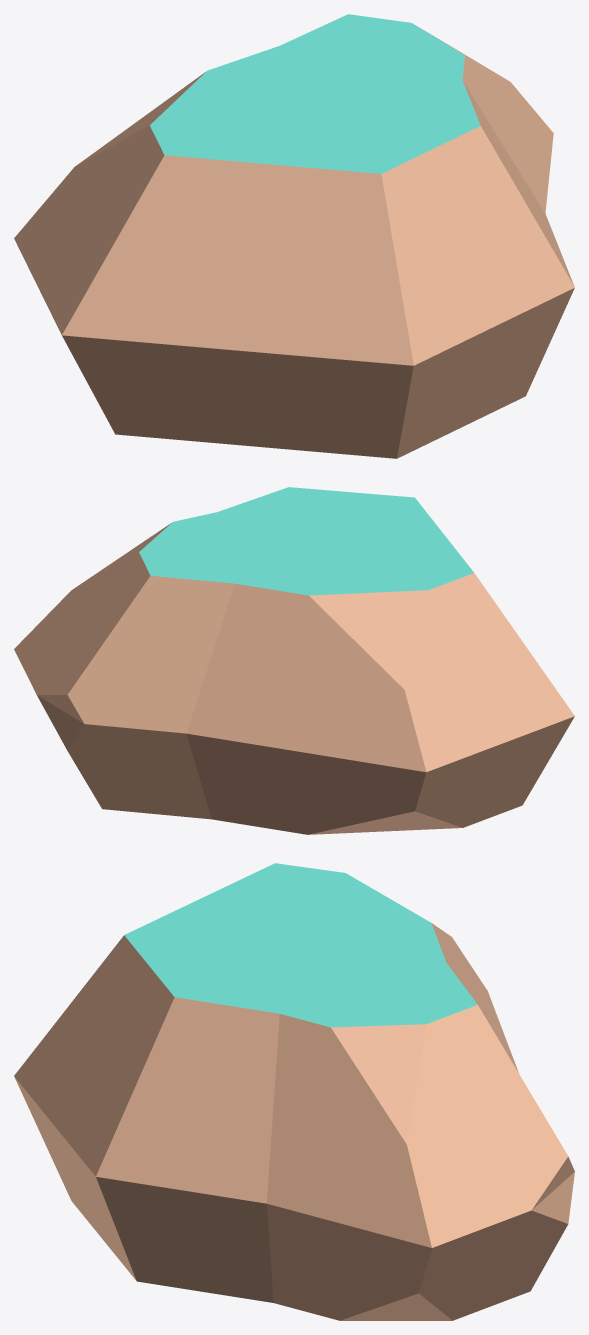
The model's file is rock_largeF.glb.
3 renders of one model, top to bottom at view 1: azimuth 30°, elevation 25°; view 2: azimuth 150°, elevation 25°; view 3: azimuth 270°, elevation 25°, orthographic. The views are drawn at different scales.
Visible parts, largest first — view 1: rock_largeF; view 2: rock_largeF; view 3: rock_largeF.
Part boxes in pixels (box(x1,y1,x2,y2)): rock_largeF: box(14, 14, 574, 458); rock_largeF: box(14, 487, 574, 834); rock_largeF: box(14, 863, 574, 1320).
Bounding box in the file's own units: 1.1 × 0.479 × 0.899.
